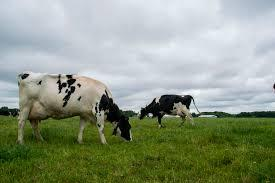cow: (17, 72, 133, 145), (138, 94, 201, 129)
